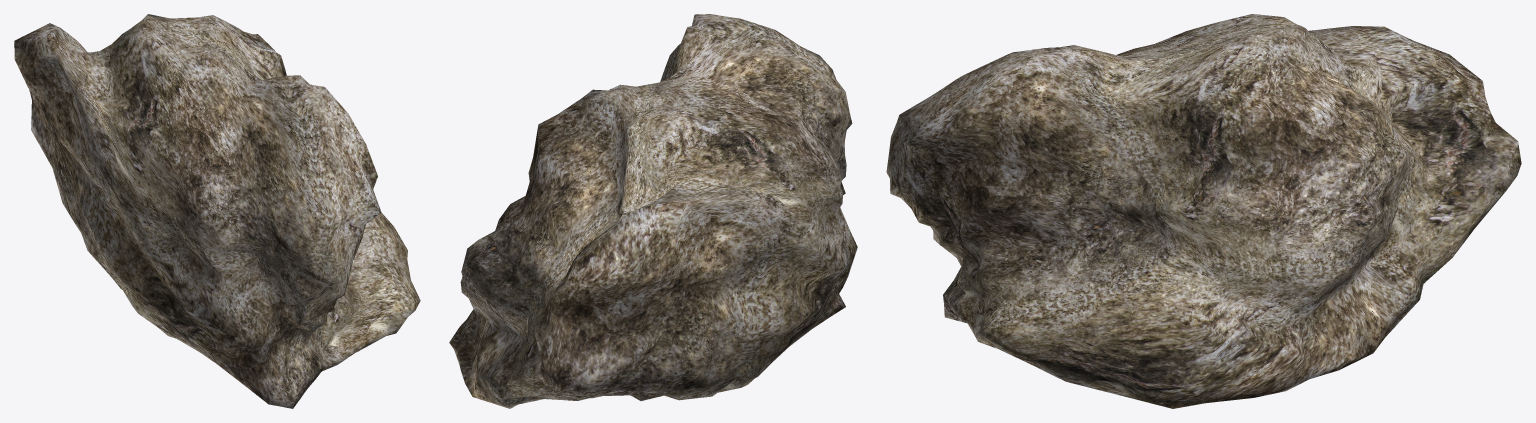
Rendered from Asteroid_12_L0.FBX.
3 views of the same model, side by side, from view 1: azimuth 30°, elevation 25°; view 2: azimuth 150°, elevation 25°; view 3: azimuth 270°, elevation 25° (orthographic). The views are drawn at different scales.
Visible parts, largest first — view 1: Asteroid; view 2: Asteroid; view 3: Asteroid.
Boxes of the visible parts, x1,y1,x2,y2 form: Asteroid: (14,14,420,408); Asteroid: (449,14,857,408); Asteroid: (886,14,1521,408).
Bounding box in the file's own units: 1.8 × 1.79 × 3.32.
